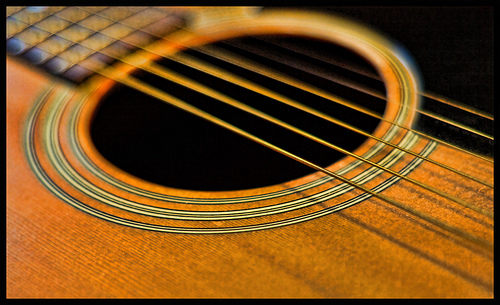guitar: (5, 5, 493, 298)
